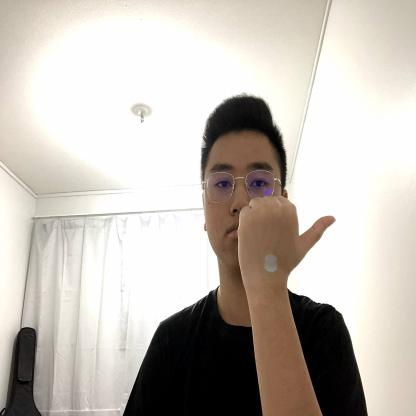left: (237, 192, 337, 283)
